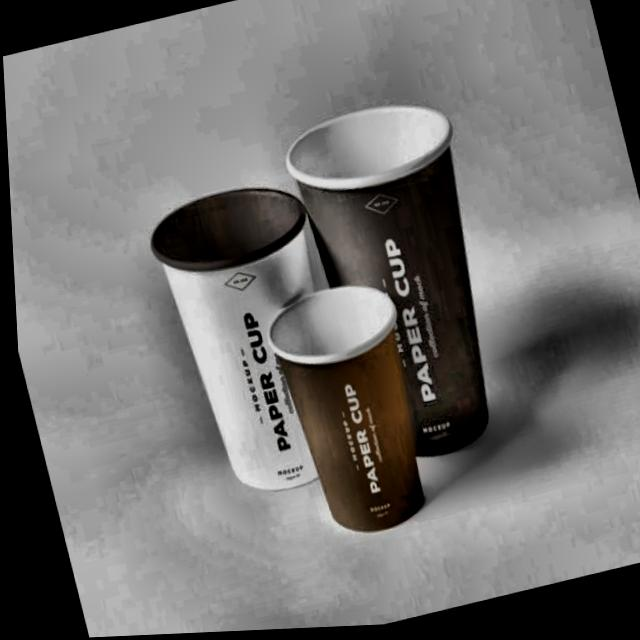Cup: (273, 83, 536, 502), (134, 172, 367, 513), (254, 272, 440, 552)
